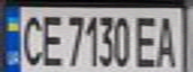0: (112, 12, 133, 69)
1: (81, 11, 100, 68)
3: (97, 11, 118, 68)
7: (63, 11, 84, 68)
A: (151, 11, 181, 69)
C: (15, 10, 45, 67)
E: (36, 10, 66, 69), (133, 11, 160, 69)
